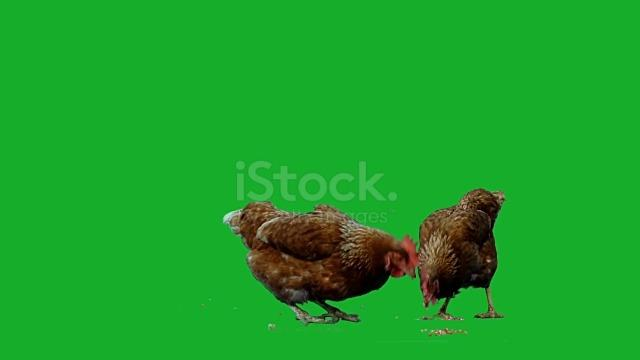Normal: (220, 203, 420, 324), (419, 184, 514, 325)
